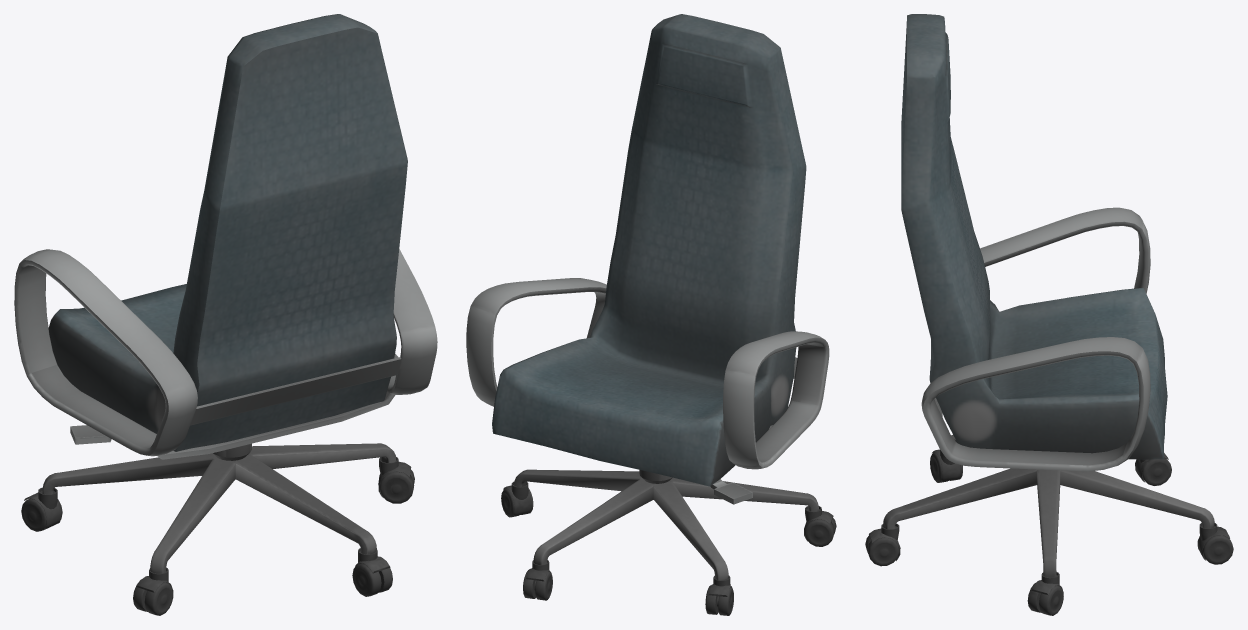
The model's file is office chair.FBX.
The picture shows the model from 3 angles, left to right: view 1: azimuth 30°, elevation 25°; view 2: azimuth 150°, elevation 25°; view 3: azimuth 270°, elevation 25°; orthographic projection. The views are drawn at different scales.
Visible parts, largest first — view 1: Office Chair; view 2: Office Chair; view 3: Office Chair.
Part boxes in pixels (bbox=[...]): Office Chair: bbox=[14, 14, 437, 615]; Office Chair: bbox=[466, 14, 836, 615]; Office Chair: bbox=[865, 14, 1233, 615].
Size of the model in its own units: 0.9857 by 1.52 by 1.
Materials: 1 (1 with a texture image).
